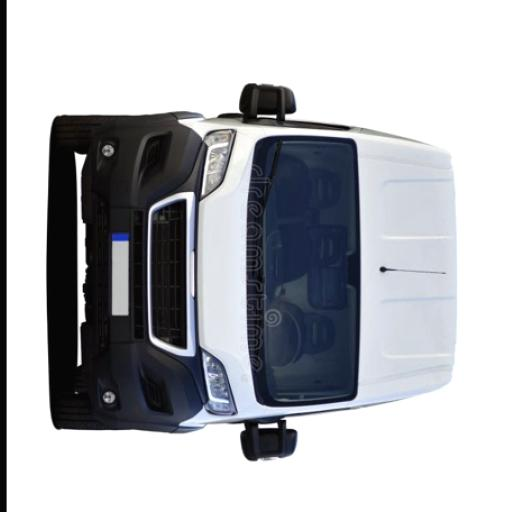van: (52, 78, 460, 466)
